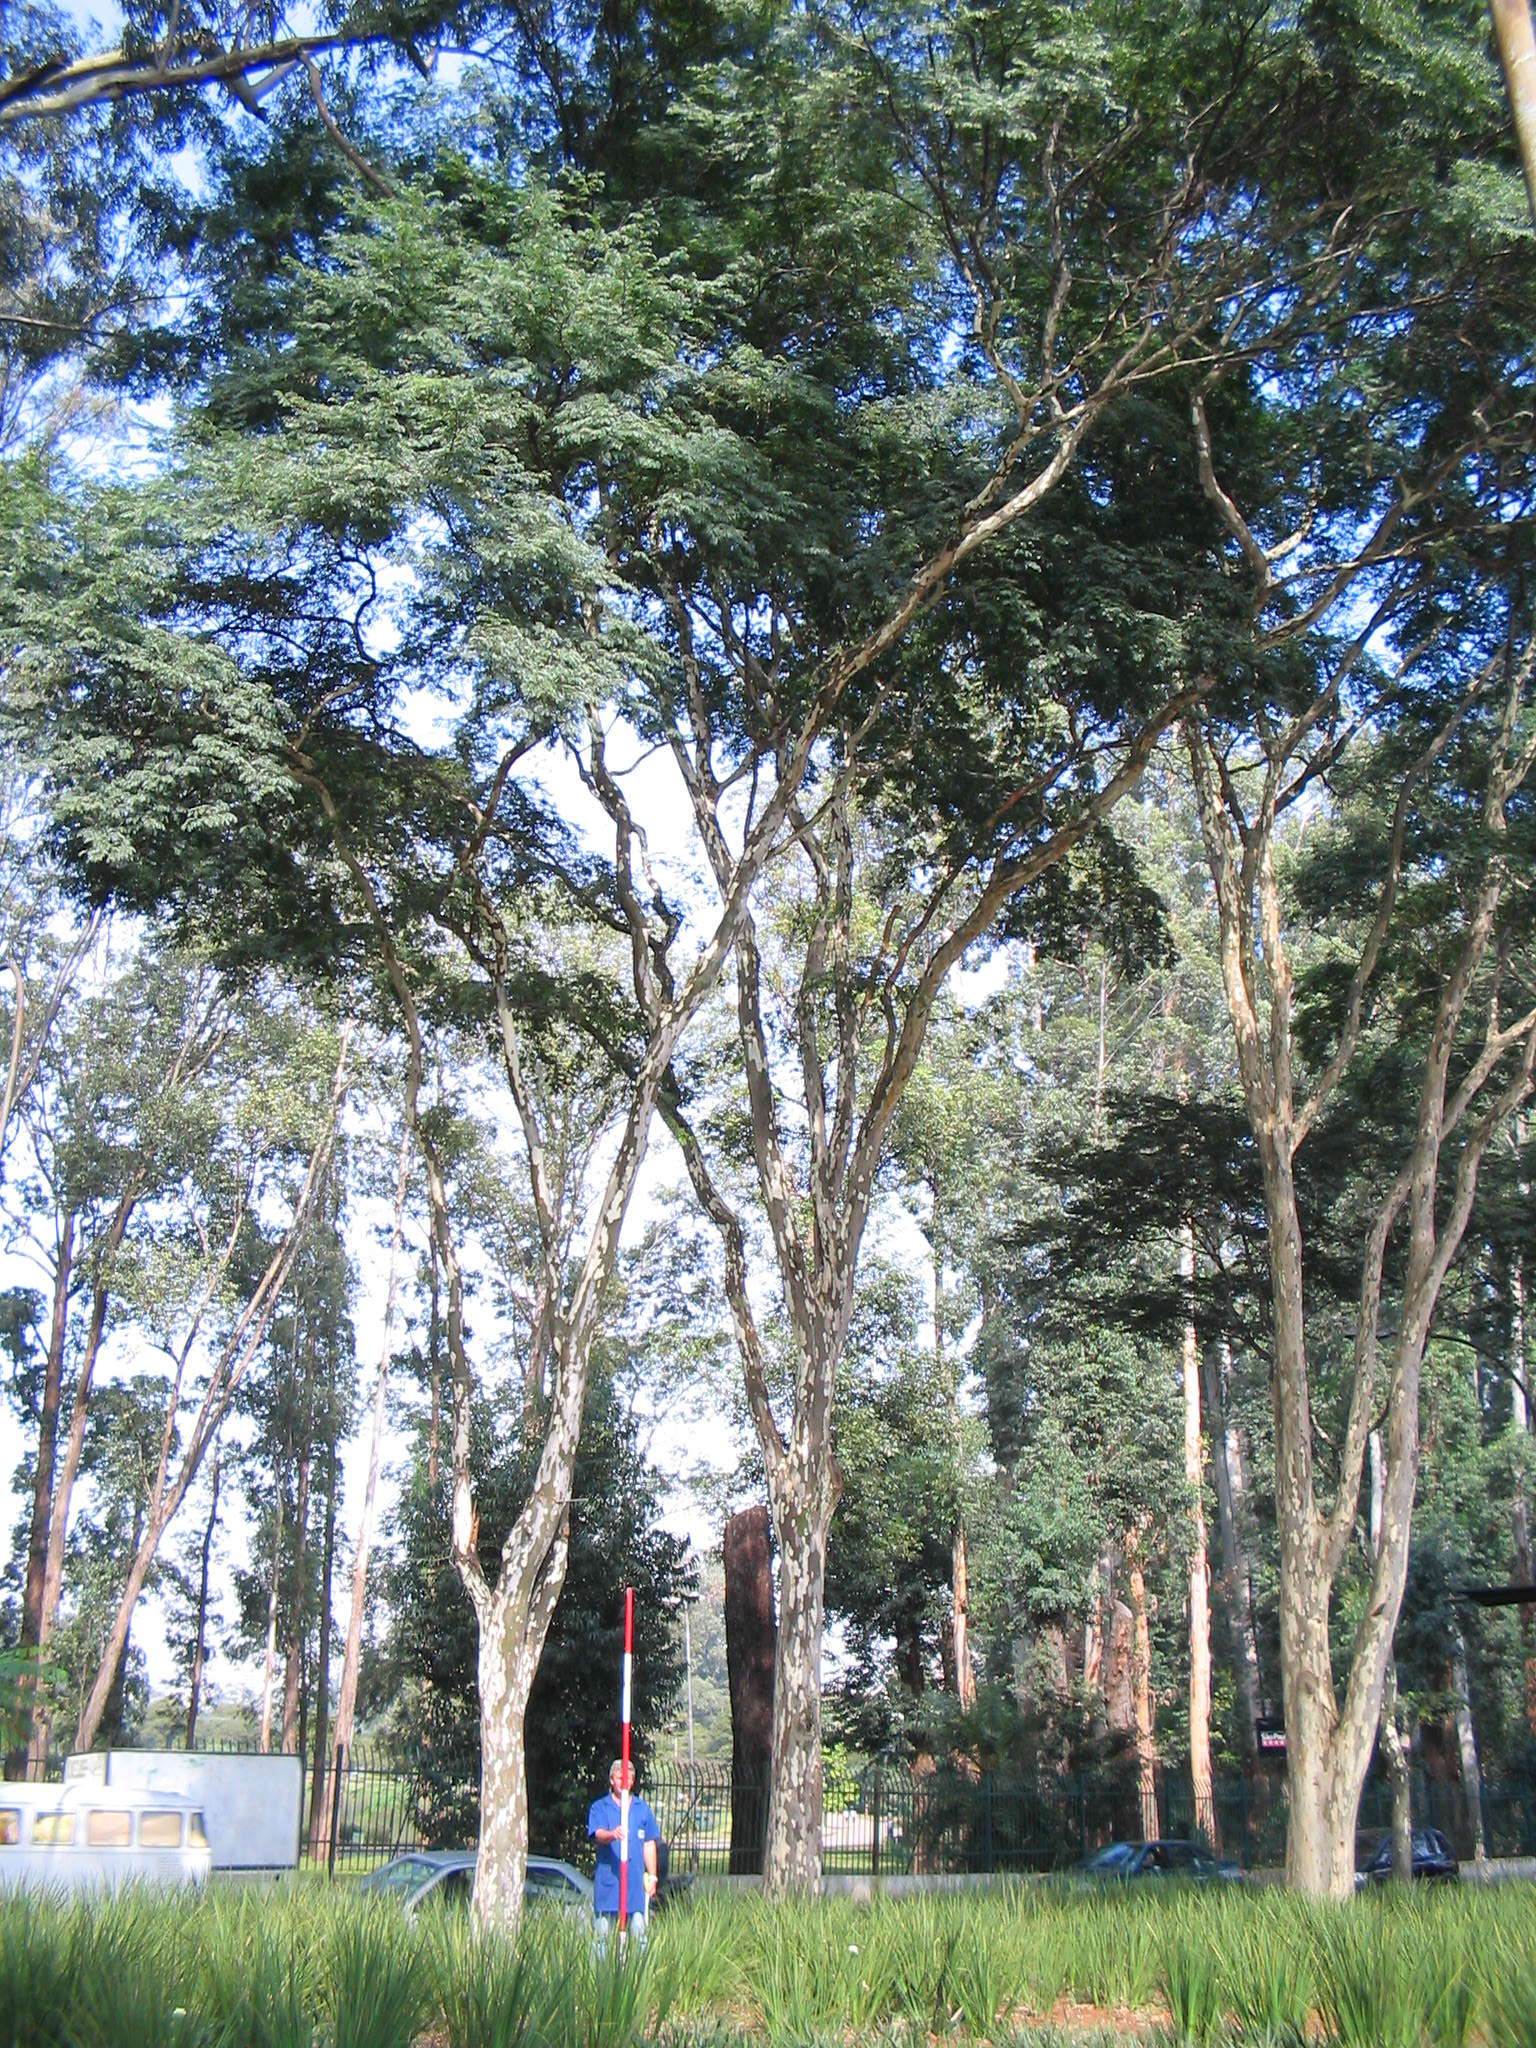crown: (16, 21, 1513, 1050)
stem: (436, 1629, 565, 2003)
stick: (599, 1592, 645, 1992)
tree: (11, 13, 1517, 2000)
